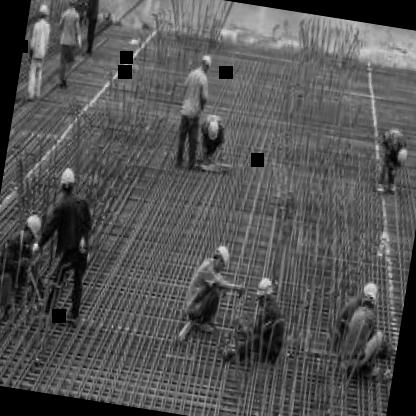helmet: (18, 206, 44, 246), (200, 112, 228, 148), (356, 277, 384, 311), (208, 238, 232, 276), (55, 164, 79, 198), (252, 274, 277, 306), (391, 139, 413, 170), (193, 47, 214, 78)
